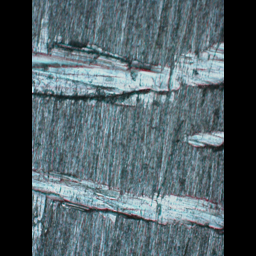d: (32, 160, 223, 238), (32, 40, 224, 101), (180, 124, 224, 156)
